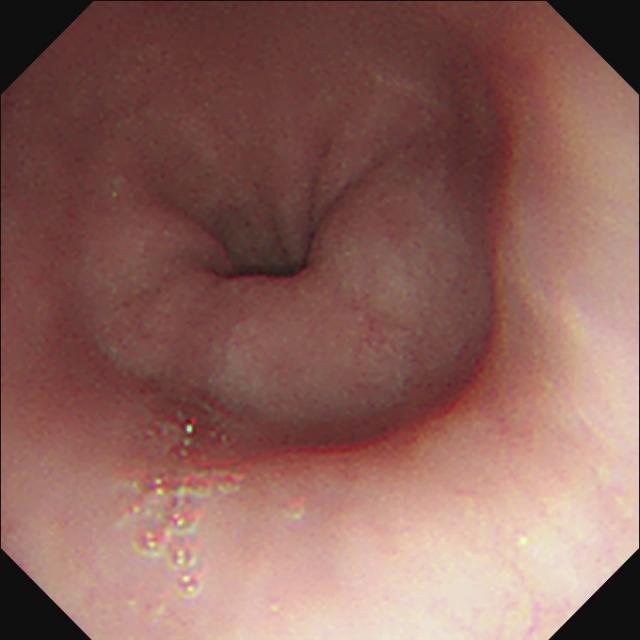I: (130, 122, 396, 327)
T: (118, 414, 239, 601)
